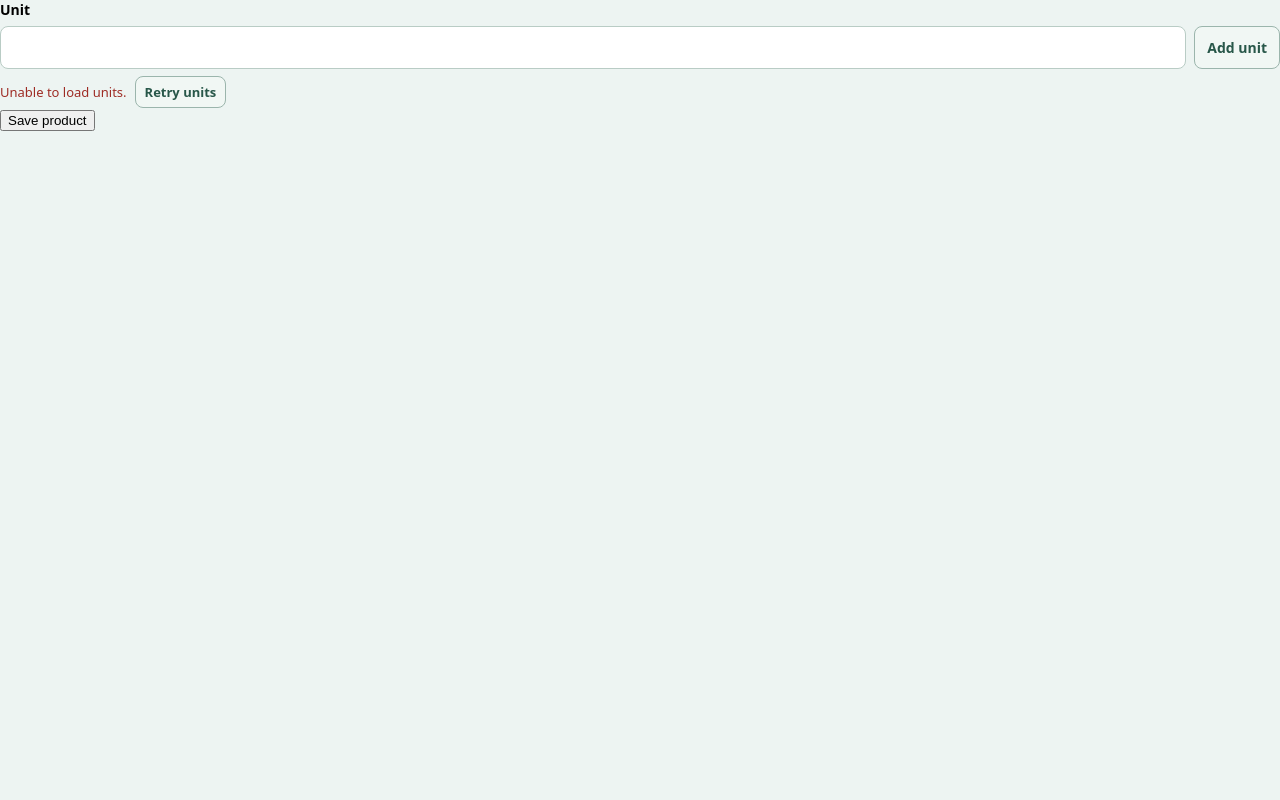
Test: retries loading units and lets a saved unit be selected from the popup
The width and height of the screenshot is (1280, 800).
Expected: the message reads "Unable to load units.", [0,83,126,101]
Click the button "Add unit".
click(1237, 48)  # box [1194,26,1279,69]
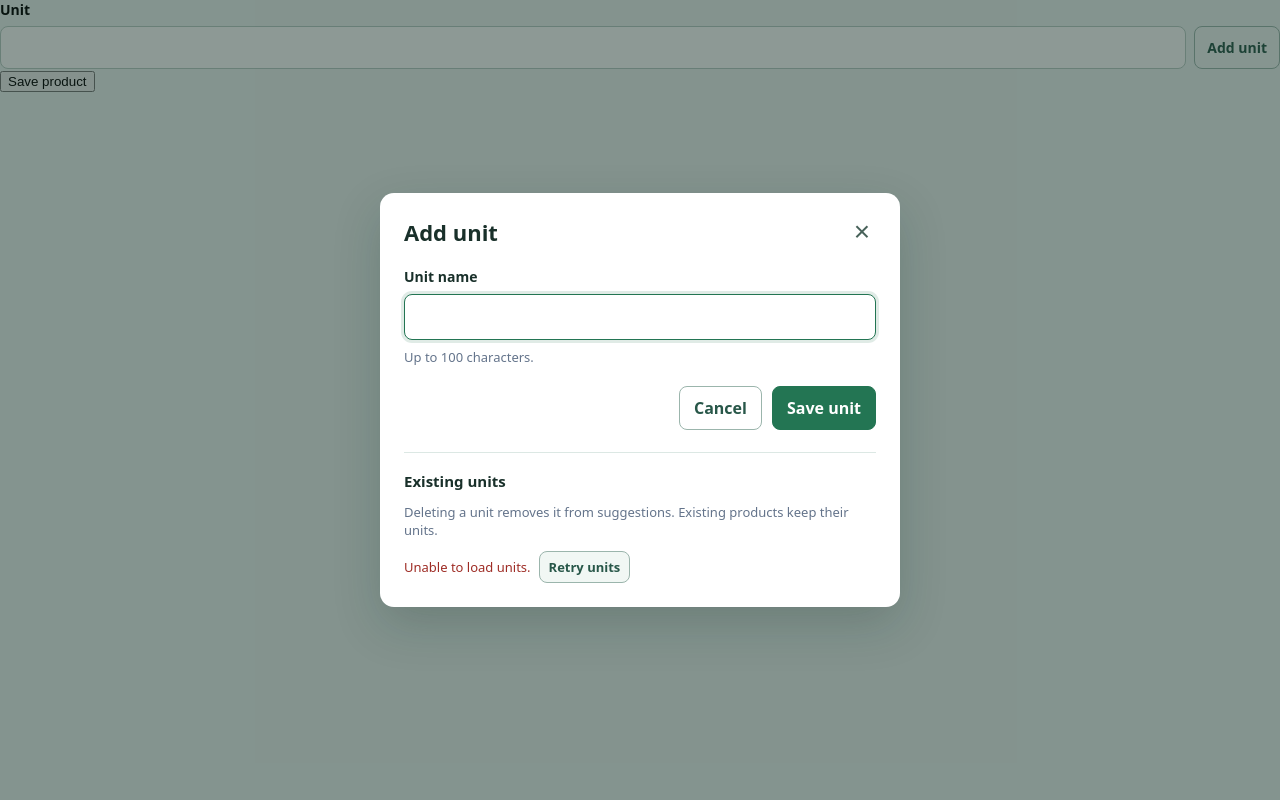
Click the button "Retry units".
click(584, 567)  # box [538,551,630,583]
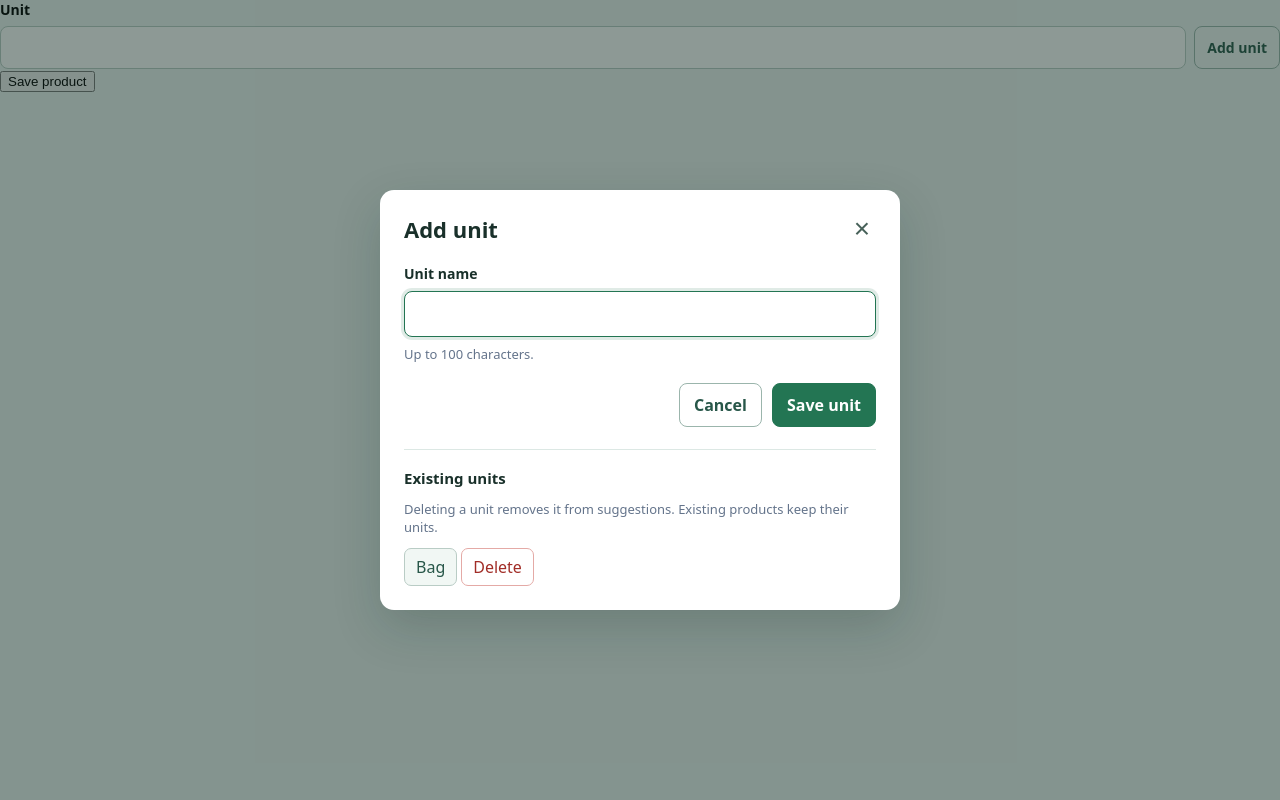
Click the button with aria-label "Use unit Bag".
click(431, 567)  # box [404,548,457,586]
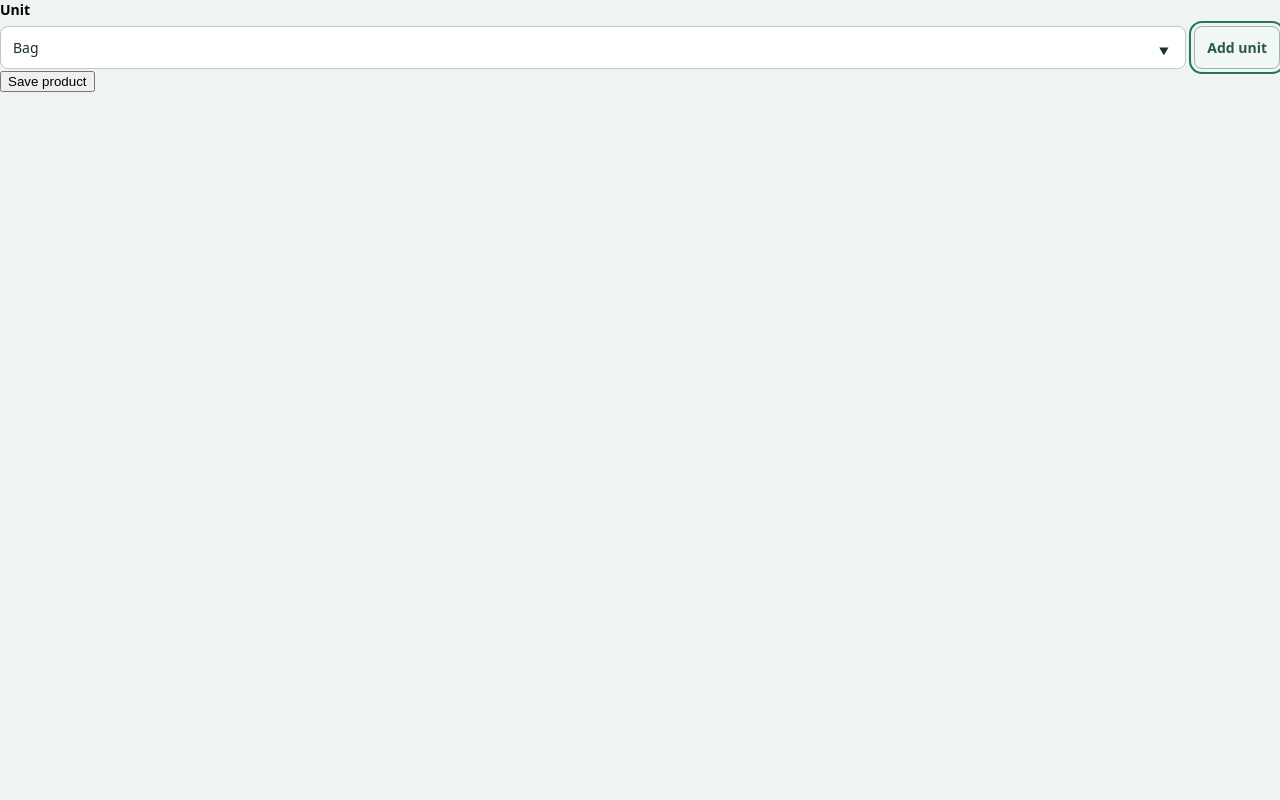
Expected: the dialog is gone
Expected: the field labelled "Unit" holds "Bag", [0,26,1186,69]
